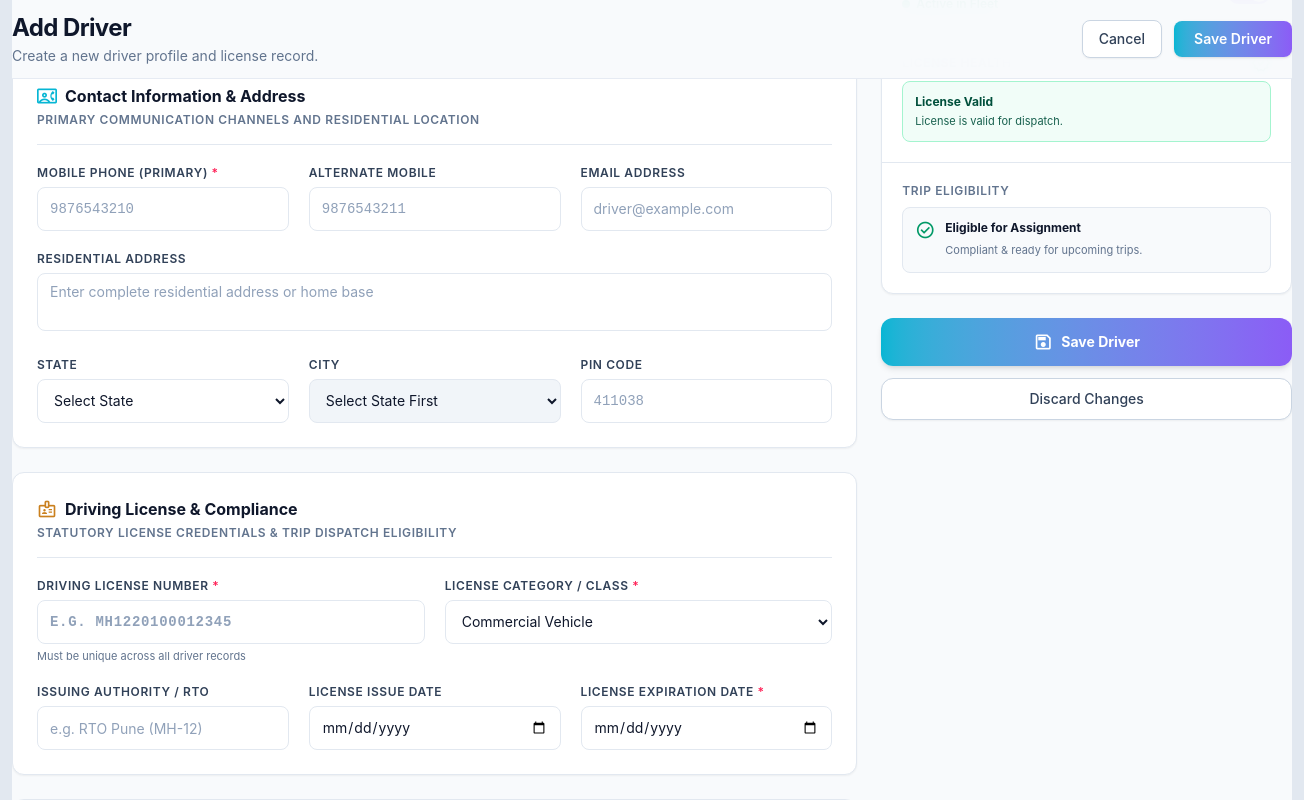
it: DriverForm › updates the state and resets city when state changes
(page scrolled)
Expected: the dropdown labelled "City" is disabled, x1=309 y1=378 x2=561 y2=422
Select "Maharashtra" in the dropdown labelled "State" at (163, 400), box x1=37 y1=378 x2=289 y2=422
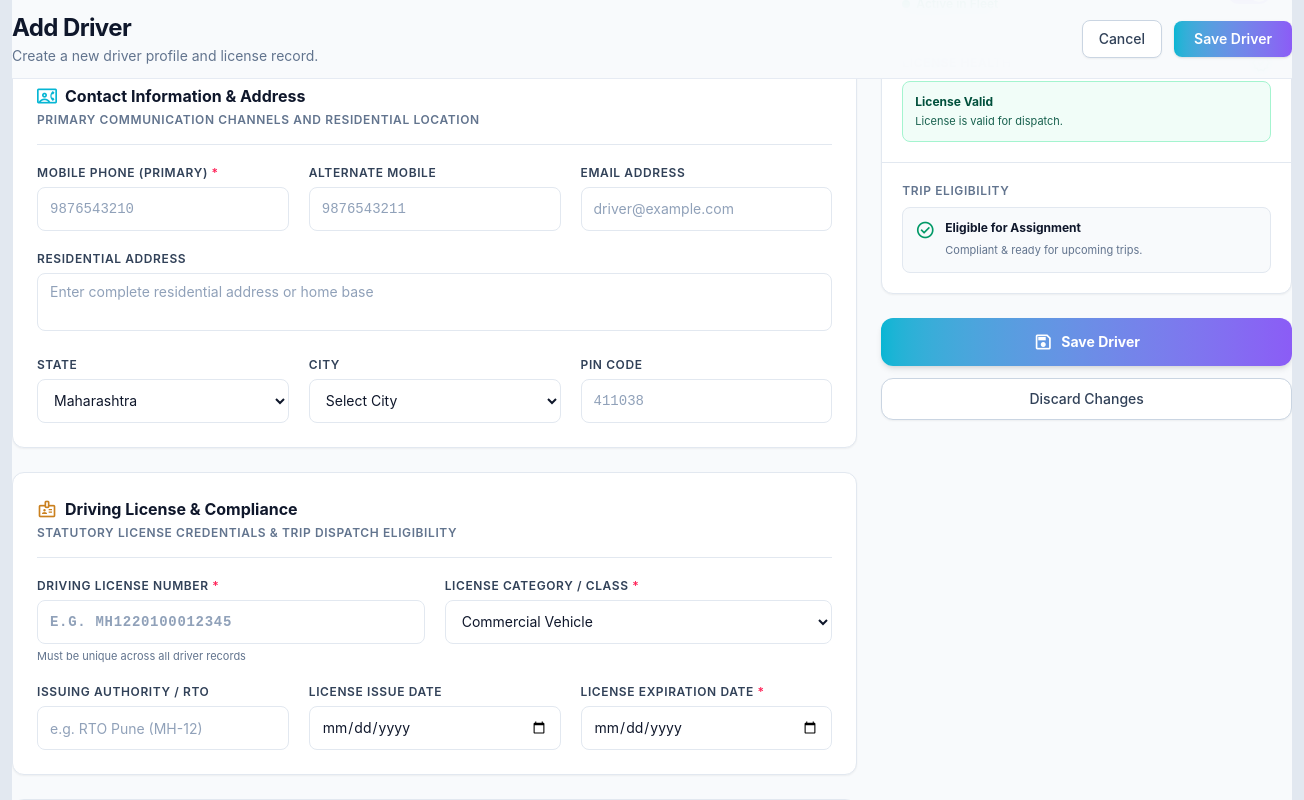
Expected: the dropdown labelled "City" is enabled, x1=309 y1=378 x2=561 y2=422
Expected: the dropdown labelled "City" shows "Select City", x1=309 y1=378 x2=561 y2=422
